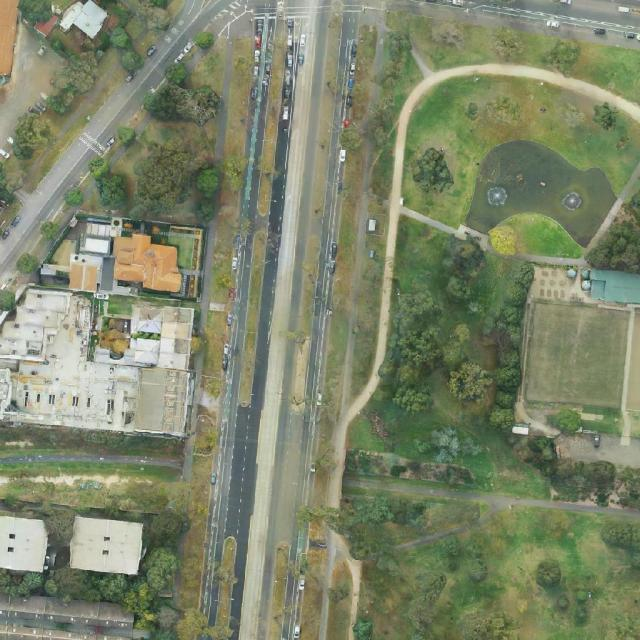building: (38, 209, 208, 303), (67, 515, 146, 577), (127, 302, 194, 370), (32, 9, 60, 38)
greenland: (67, 25, 305, 275), (371, 219, 539, 470), (379, 5, 640, 103), (443, 73, 640, 193), (0, 455, 190, 529), (111, 120, 223, 222), (136, 58, 227, 148), (359, 28, 417, 150), (479, 431, 559, 504), (344, 447, 477, 488), (136, 505, 191, 596), (488, 211, 585, 258), (403, 147, 455, 222), (224, 36, 254, 151), (86, 150, 135, 214), (103, 24, 149, 84), (402, 98, 449, 154), (59, 45, 110, 96), (210, 219, 237, 303), (360, 405, 402, 456), (133, 598, 185, 638), (216, 536, 238, 627), (202, 310, 228, 380), (368, 145, 397, 202), (546, 404, 586, 440), (0, 156, 22, 202), (193, 419, 219, 457), (44, 83, 79, 109), (13, 251, 42, 279), (0, 285, 23, 311), (39, 219, 61, 243), (64, 186, 86, 210)
unmetalled_road: (179, 0, 640, 510), (397, 206, 459, 237), (513, 252, 587, 266), (405, 45, 434, 79), (457, 223, 487, 243)
